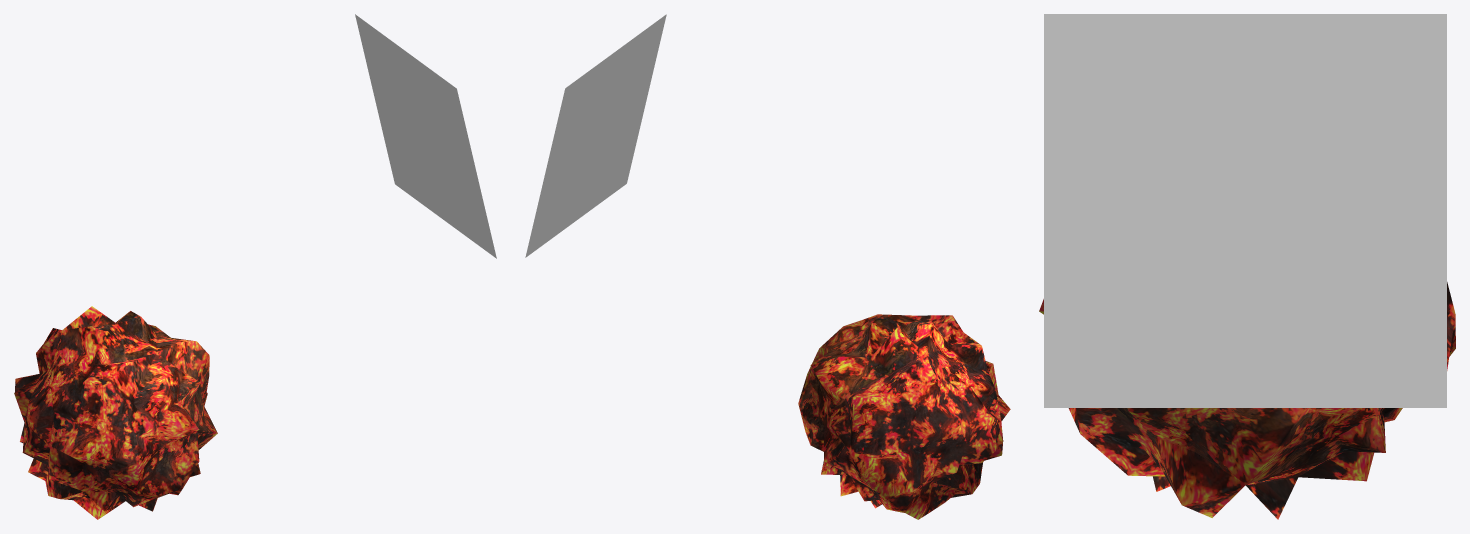
The model's file is lava_asteroid.fbx.
3 renders of one model, left to right at view 1: azimuth 30°, elevation 25°; view 2: azimuth 150°, elevation 25°; view 3: azimuth 270°, elevation 25°, orthographic. The views are drawn at different scales.
Visible parts, largest first — view 1: Lava_Asteroid, Plane; view 2: Lava_Asteroid, Plane; view 3: Plane, Lava_Asteroid.
Part boxes in pixels (left/top/right/bottom): Lava_Asteroid: left=14, top=306, right=217, bottom=519; Plane: left=355, top=14, right=496, bottom=258; Lava_Asteroid: left=798, top=314, right=1010, bottom=519; Plane: left=525, top=14, right=666, bottom=257; Plane: left=1044, top=14, right=1446, bottom=407; Lava_Asteroid: left=1039, top=282, right=1455, bottom=519.
Size of the model in its own units: 477 by 419 by 207.
Materials: 2 (1 with a texture image).
